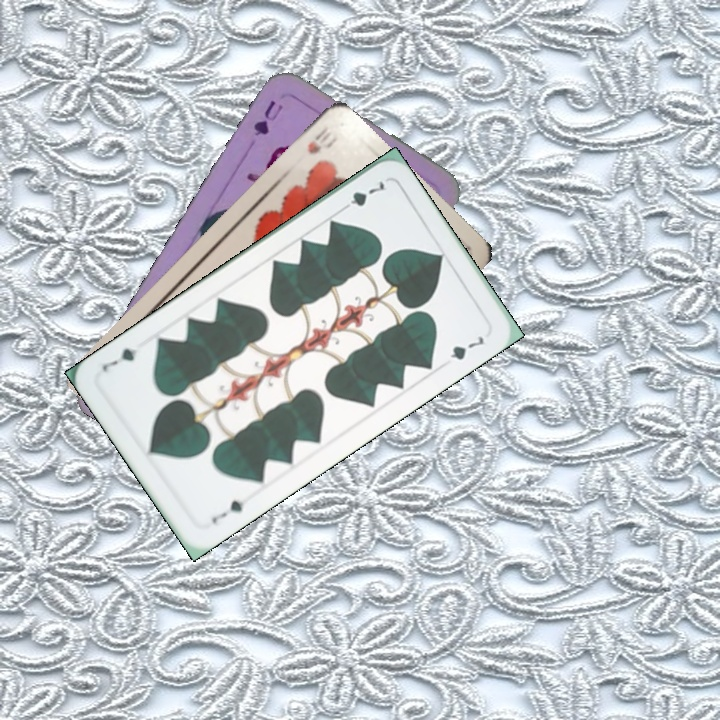G7: (335, 177, 390, 215), (208, 494, 253, 527)
GU: (249, 95, 286, 139)
H10: (303, 122, 341, 157)
